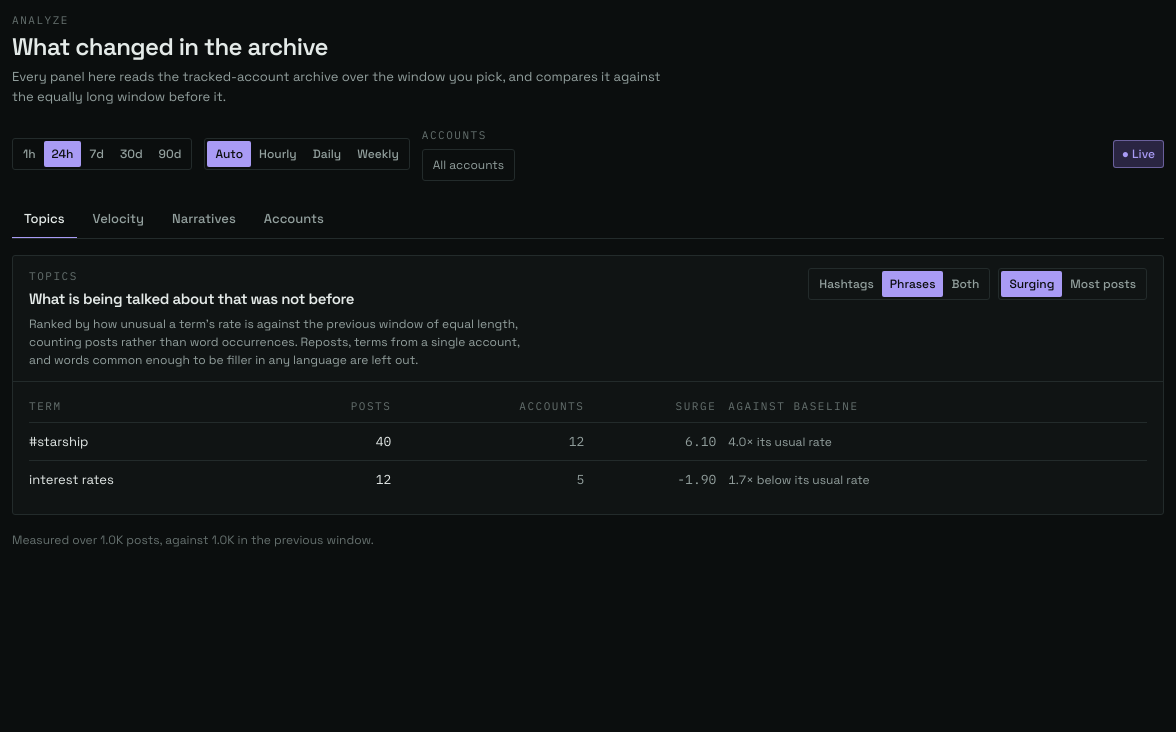
Test case: Analyze narratives › does not render the previous tab's rows while switching
This screenshot has width=1176, height=732.
Expected: the button "#starship" is shown, x1=29 y1=432 x2=88 y2=452
Click the tab "Narratives".
click(204, 220)  # box x1=160 y1=201 x2=248 y2=239
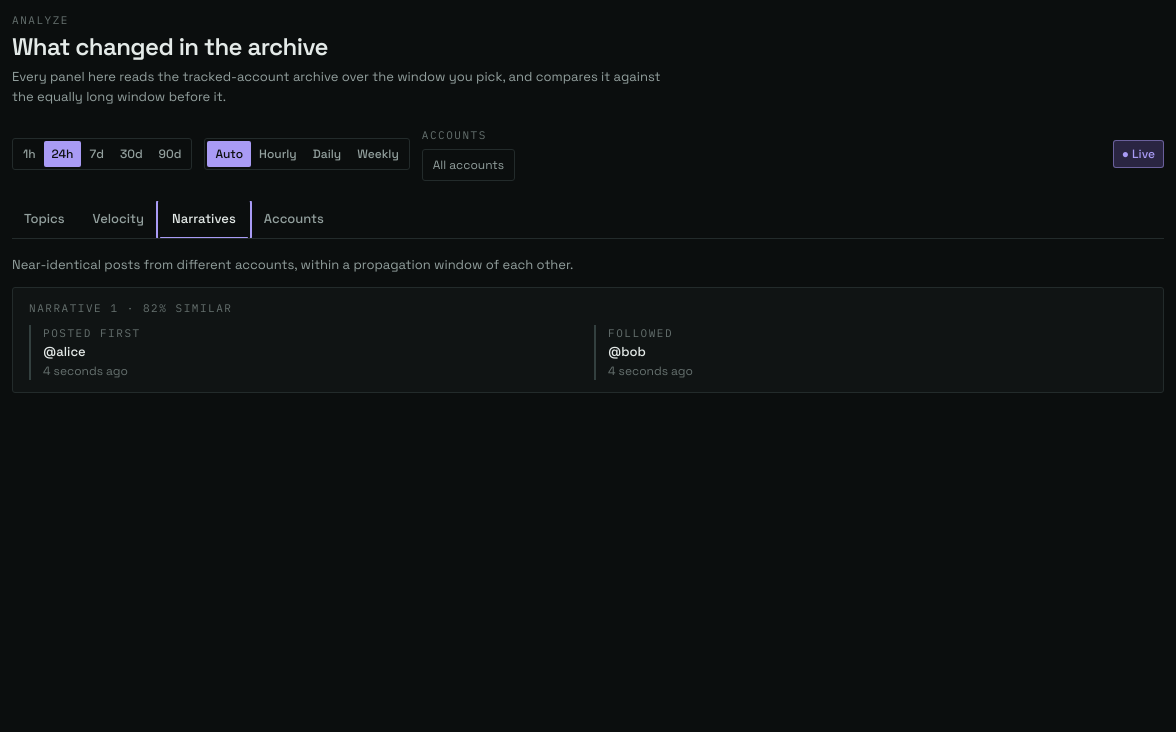
Expected: the text "Narrative 1 · 82% similar" is shown, x1=29 y1=301 x2=232 y2=315
Expected: the button "#starship" is gone
